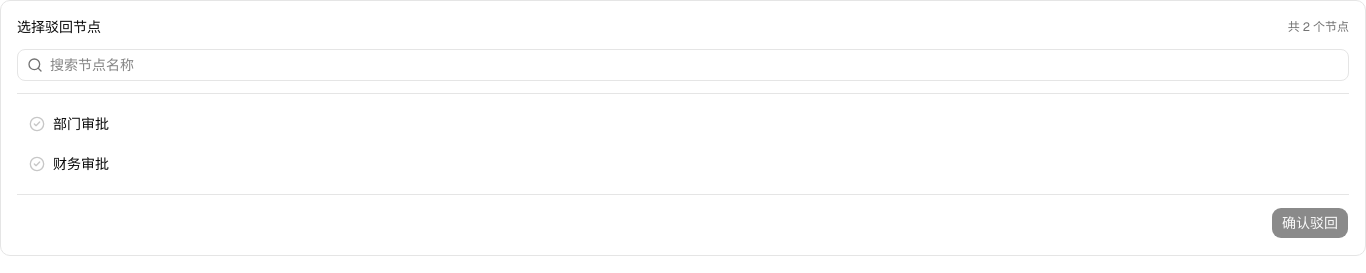
Test case: RebutNodeSelect › filters nodes by the search query
The image size is (1366, 273).
Type "财务" into the field labelled "搜索节点名称" at (683, 65), box [17, 49, 1349, 81]
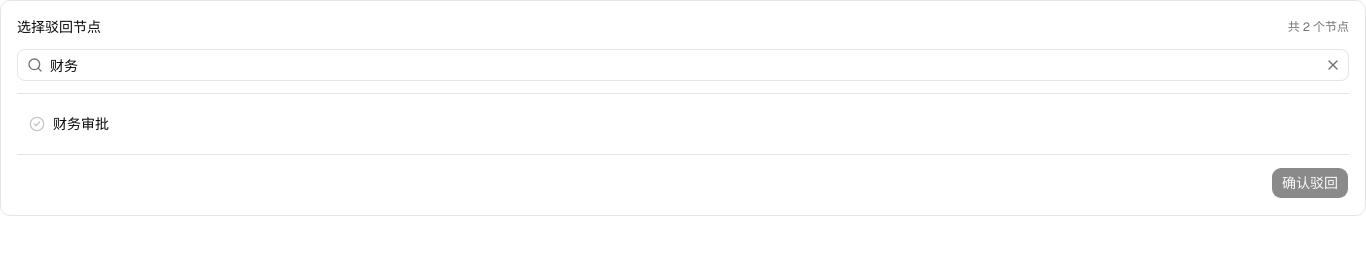
Expected: the text "财务审批" is shown, [53, 115, 109, 133]
Expected: the button "部门审批" is gone
